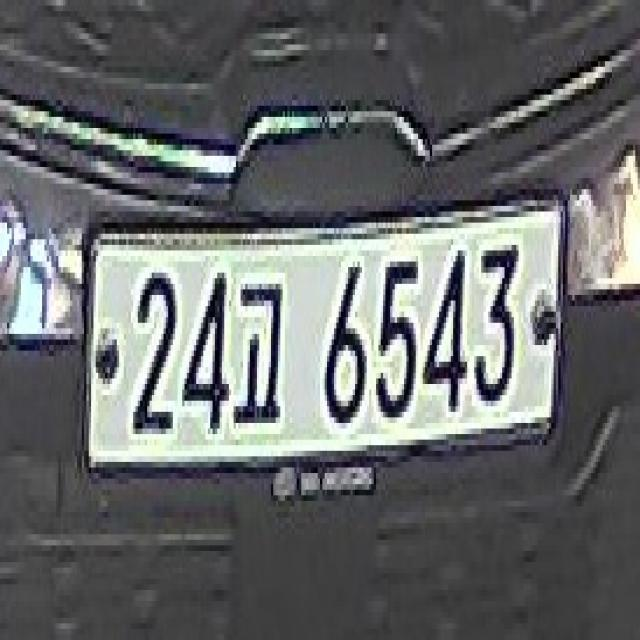2: (126, 258, 179, 442)
3: (471, 226, 521, 407)
4: (421, 234, 471, 418), (184, 262, 232, 436)
5: (375, 242, 418, 430)
6: (320, 255, 370, 430)
go: (234, 266, 287, 436)
license_plate: (86, 196, 565, 467)
